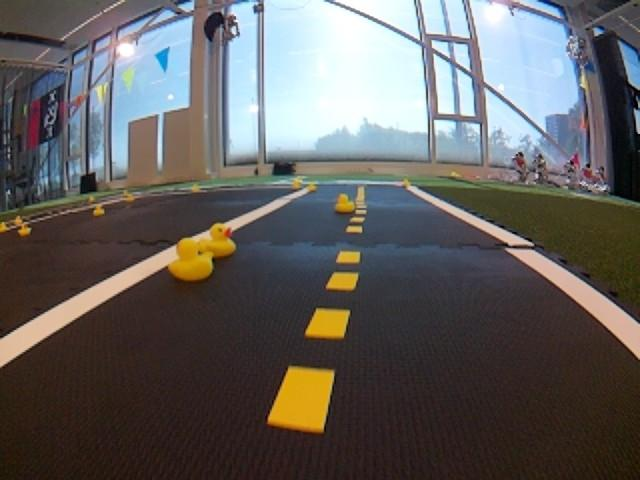Duckies: (168, 239, 213, 281), (191, 226, 236, 258), (335, 194, 354, 213), (17, 223, 33, 236), (92, 205, 105, 216), (292, 179, 302, 189), (0, 222, 8, 233), (305, 183, 317, 190), (126, 194, 135, 202), (191, 185, 200, 192), (15, 216, 22, 224), (403, 178, 410, 185), (89, 197, 95, 202)
